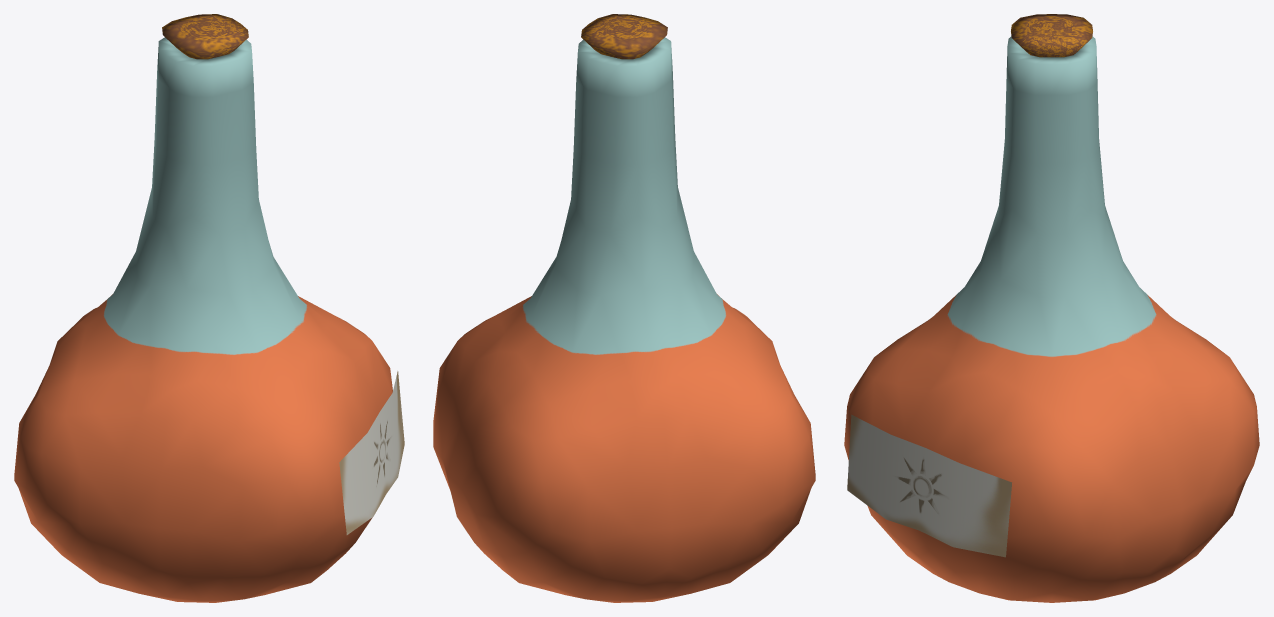
The model's file is potion_standard.fbx.
3 views of the same model, side by side, from view 1: azimuth 30°, elevation 25°; view 2: azimuth 150°, elevation 25°; view 3: azimuth 270°, elevation 25° (orthographic).
Parts seen in each view (by area): view 1: potion_bottle, potion_label, potion_cork; view 2: potion_bottle, potion_cork; view 3: potion_bottle, potion_label, potion_cork.
Boxes of the visible parts, <box> form: potion_bottle: <box>14,37,392,602</box>; potion_label: <box>339,371,404,534</box>; potion_cork: <box>162,14,248,59</box>; potion_bottle: <box>433,37,815,602</box>; potion_cork: <box>581,14,667,59</box>; potion_bottle: <box>844,36,1259,602</box>; potion_label: <box>847,414,1011,557</box>; potion_cork: <box>1011,14,1092,57</box>.
Size of the model in its own units: 0.0926 by 0.1335 by 0.0926.
